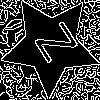Z: (25, 20, 78, 71)
